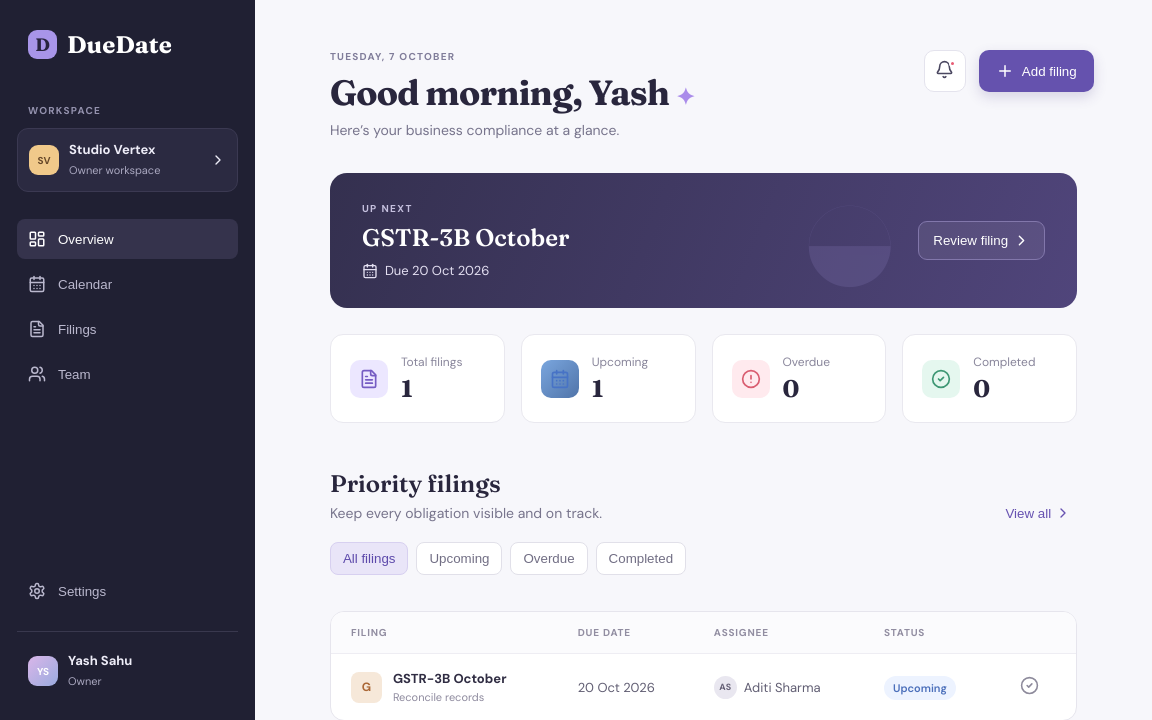
DueDate dashboard › navigates to settings and persists edited business information
Step 1. Click the button "Settings" → (67, 591), box [17, 571, 117, 611]
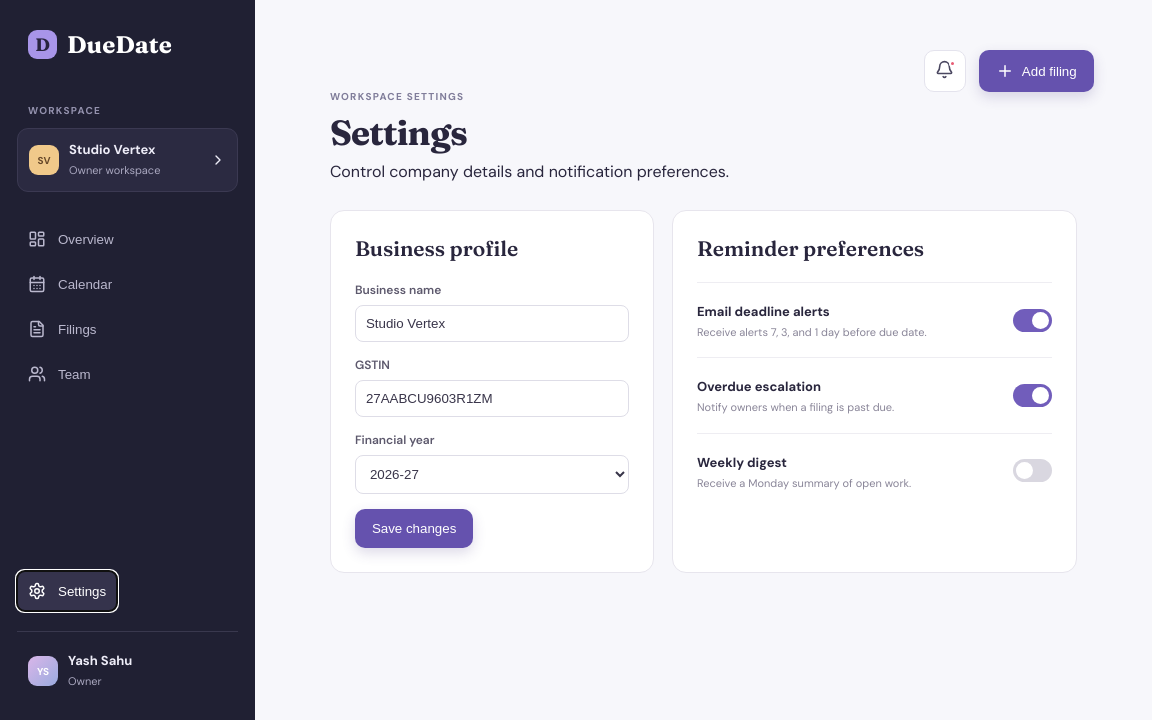
Step 2. Replace the text in the field labelled "Business name" with "Deadline Labs" → (492, 324), box [355, 305, 629, 342]
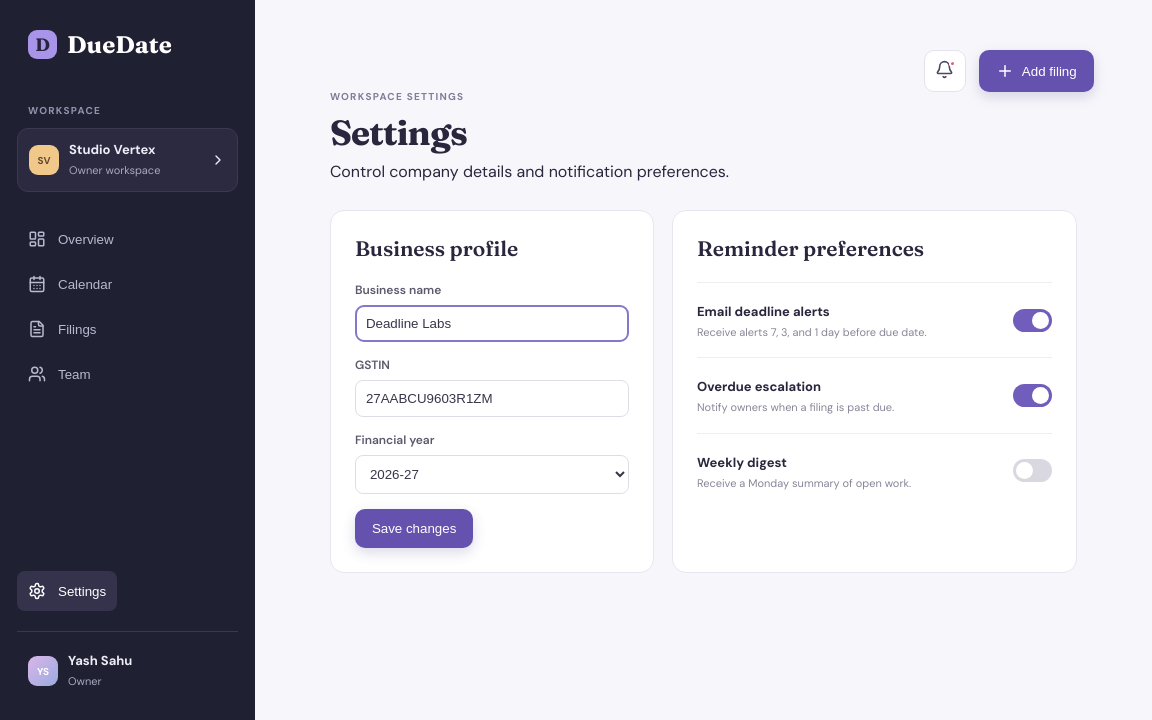
Step 3. Click the button "Save changes" → (414, 528), box [355, 509, 473, 548]
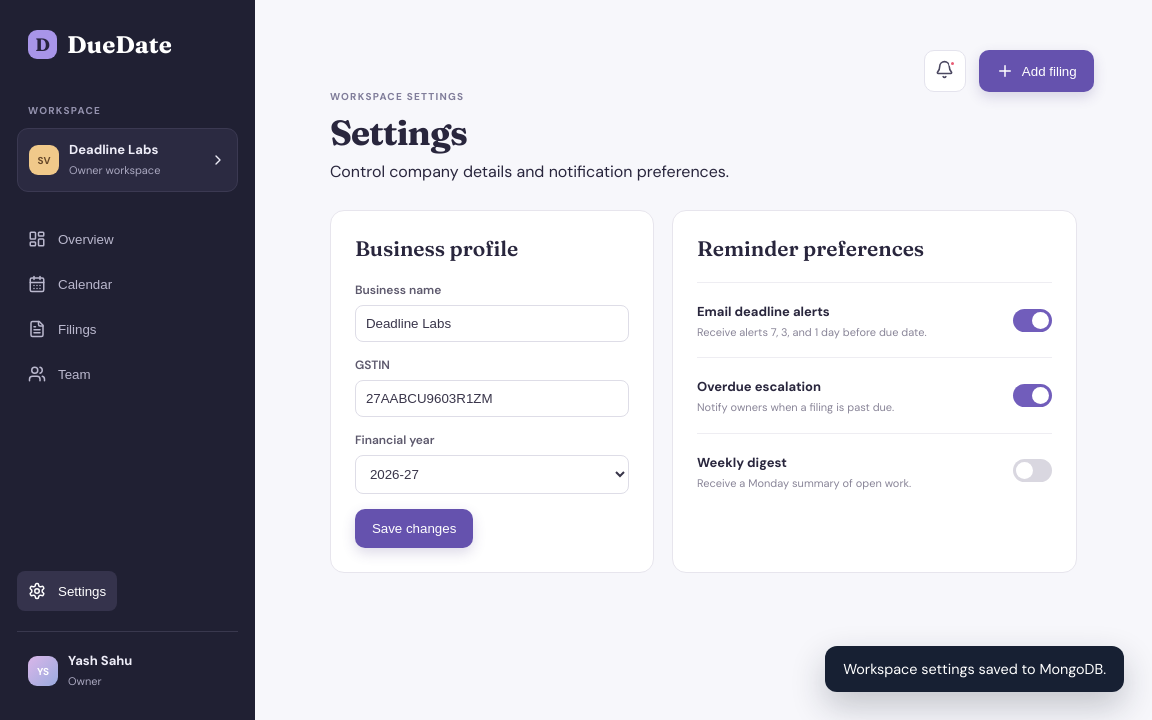
Expected: the text "Workspace settings saved to MongoDB." is shown, [825, 646, 1124, 692]
